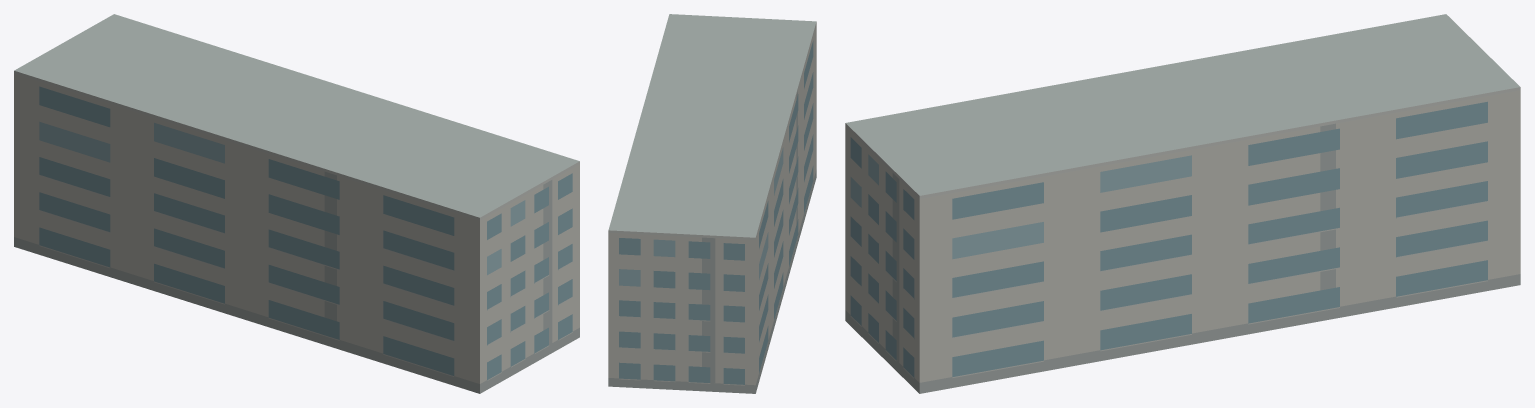
Rendered from residential-981891b1-b271-4ae0-81ed-9bb0eb5a2184.glb.
The picture shows the model from 3 angles, left to right: view 1: azimuth 30°, elevation 25°; view 2: azimuth 150°, elevation 25°; view 3: azimuth 270°, elevation 25°; orthographic projection. The views are drawn at different scales.
Parts seen in each view (by area): view 1: residential-981891b1-b271-4ae0-81ed-9bb0eb5a2184.tmp; view 2: residential-981891b1-b271-4ae0-81ed-9bb0eb5a2184.tmp; view 3: residential-981891b1-b271-4ae0-81ed-9bb0eb5a2184.tmp.
Part boxes in pixels (x1,y1,x2,y2): residential-981891b1-b271-4ae0-81ed-9bb0eb5a2184.tmp: (14,14,579,393); residential-981891b1-b271-4ae0-81ed-9bb0eb5a2184.tmp: (608,14,816,393); residential-981891b1-b271-4ae0-81ed-9bb0eb5a2184.tmp: (845,14,1520,393).
Bounding box in the file's own units: 30.05 × 15.25 × 47.12.
